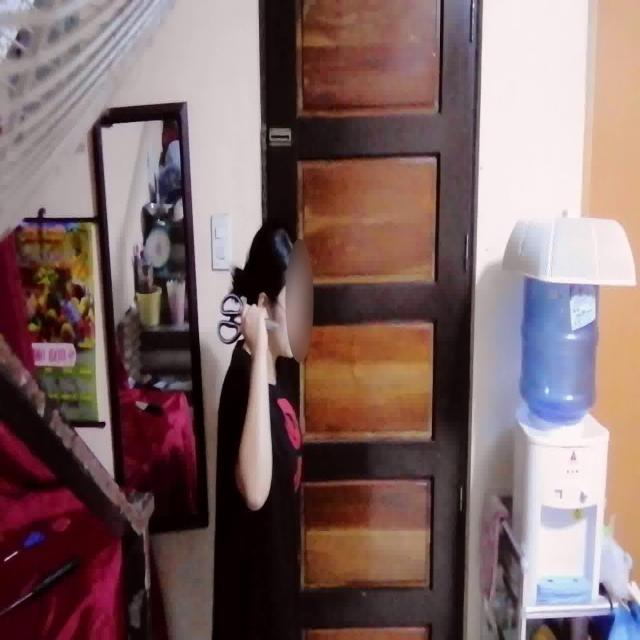scissor: (216, 292, 280, 347)
